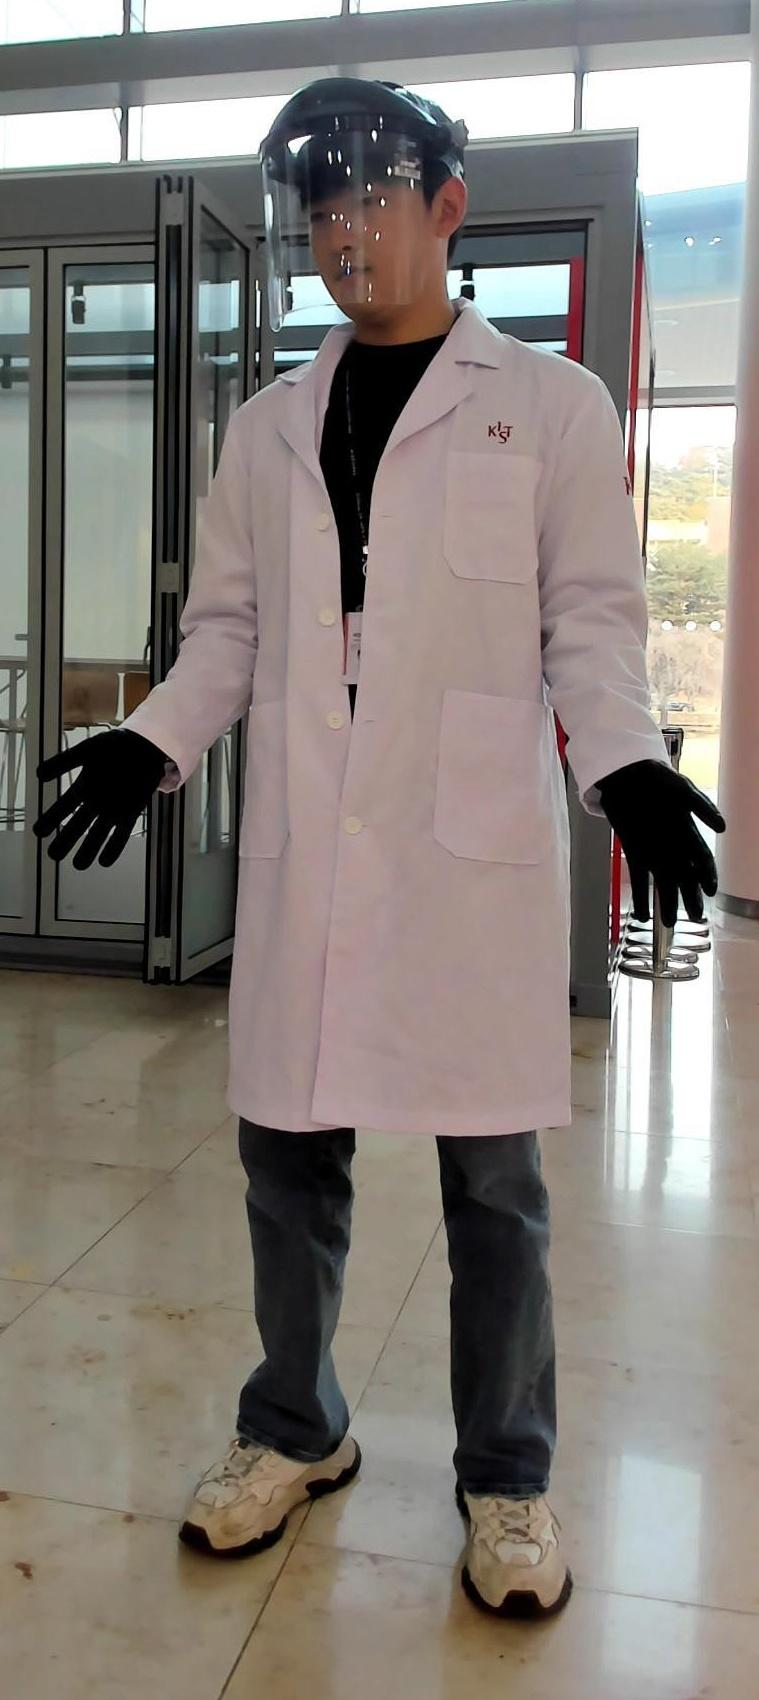lab_coat: (207, 387, 594, 1128)
